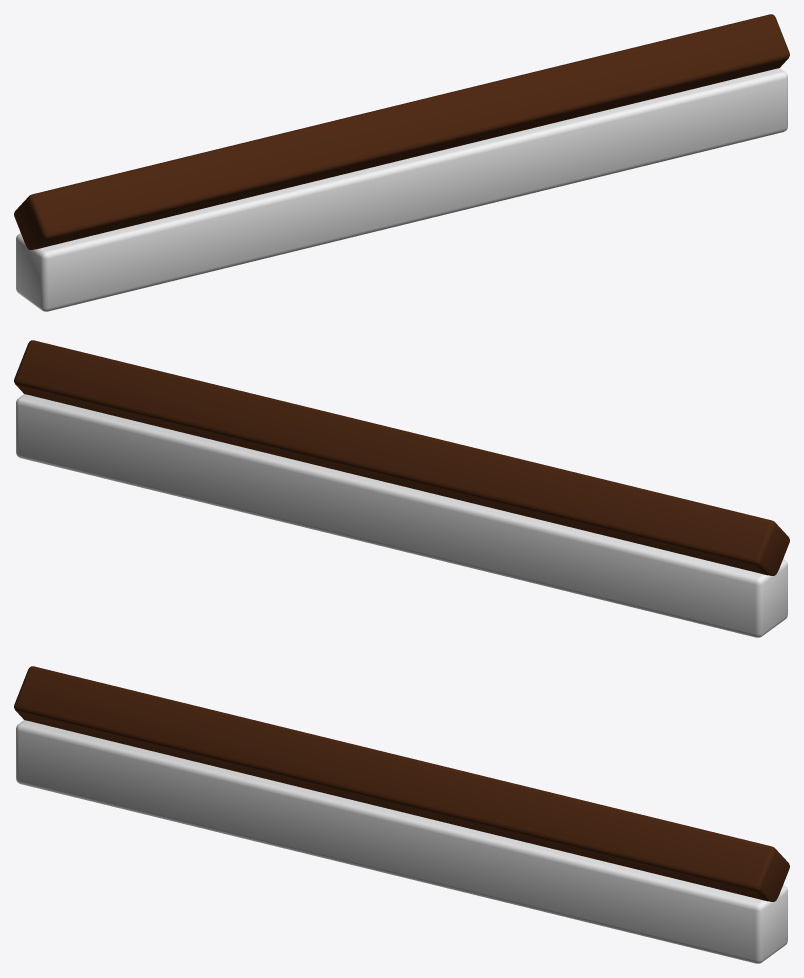
Rendered from roof-ridge-beam.obj.
3 views of the same model, one above another, from view 1: azimuth 30°, elevation 25°; view 2: azimuth 150°, elevation 25°; view 3: azimuth 330°, elevation 25° (orthographic).
Parts seen in each view (by area): view 1: roof-ridge-beam; view 2: roof-ridge-beam; view 3: roof-ridge-beam.
Boxes of the visible parts, box(x1,y1,x2,y2) form: roof-ridge-beam: box(14, 14, 789, 311); roof-ridge-beam: box(14, 340, 789, 637); roof-ridge-beam: box(14, 666, 789, 963).
Bounding box in the file's own units: 2.6 × 0.3593 × 0.1987.
